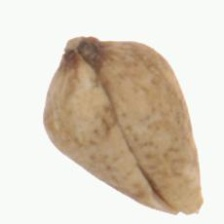L1: (150, 187, 204, 216), (60, 35, 108, 66)
L2: (43, 36, 205, 215)
